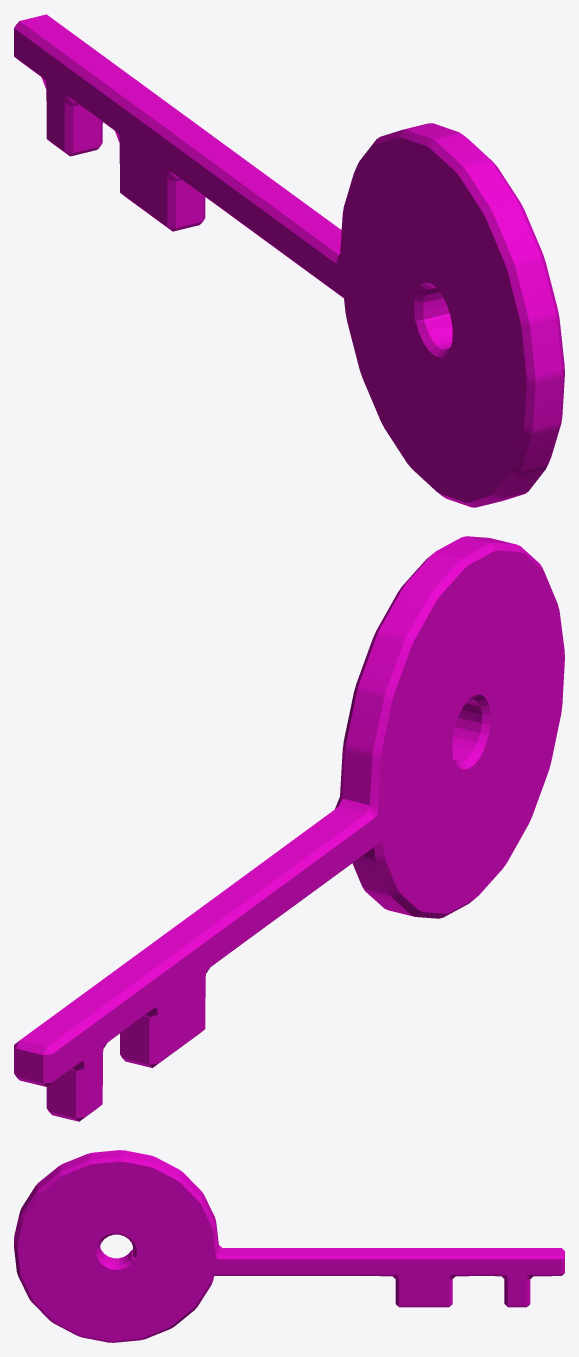
Rendered from Key_Pink.fbx.
3 views of the same model, one above another, from view 1: azimuth 30°, elevation 25°; view 2: azimuth 150°, elevation 25°; view 3: azimuth 270°, elevation 25° (orthographic). The views are drawn at different scales.
Visible parts, largest first — view 1: Key_Pink; view 2: Key_Pink; view 3: Key_Pink.
Boxes of the visible parts, x1,y1,x2,y2 form: Key_Pink: (14, 14, 564, 507); Key_Pink: (14, 536, 564, 1121); Key_Pink: (14, 1150, 564, 1342).
Bounding box in the file's own units: 0.6826 × 5.98 × 16.07.
